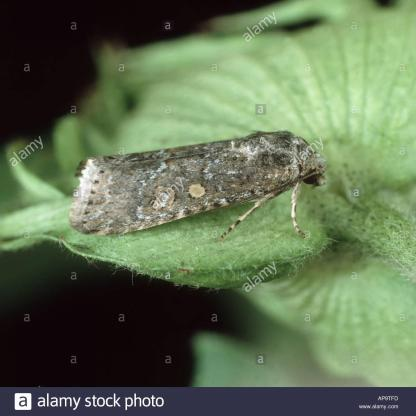armyworm: (65, 124, 324, 244)
